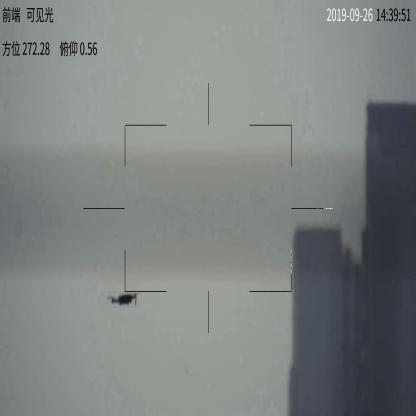uav: (105, 290, 140, 306)
